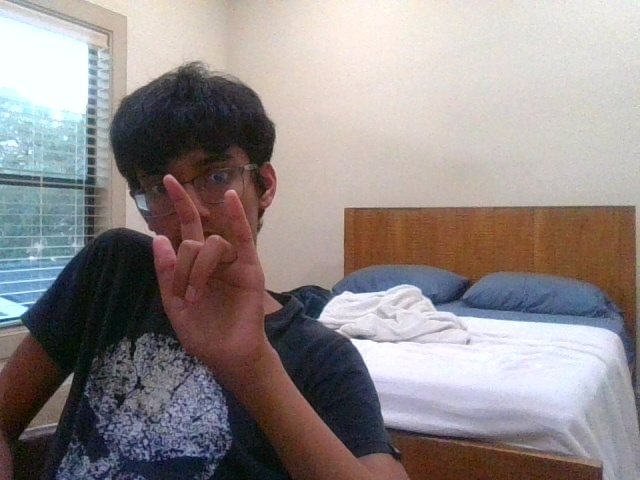ly: (152, 175, 266, 358)
